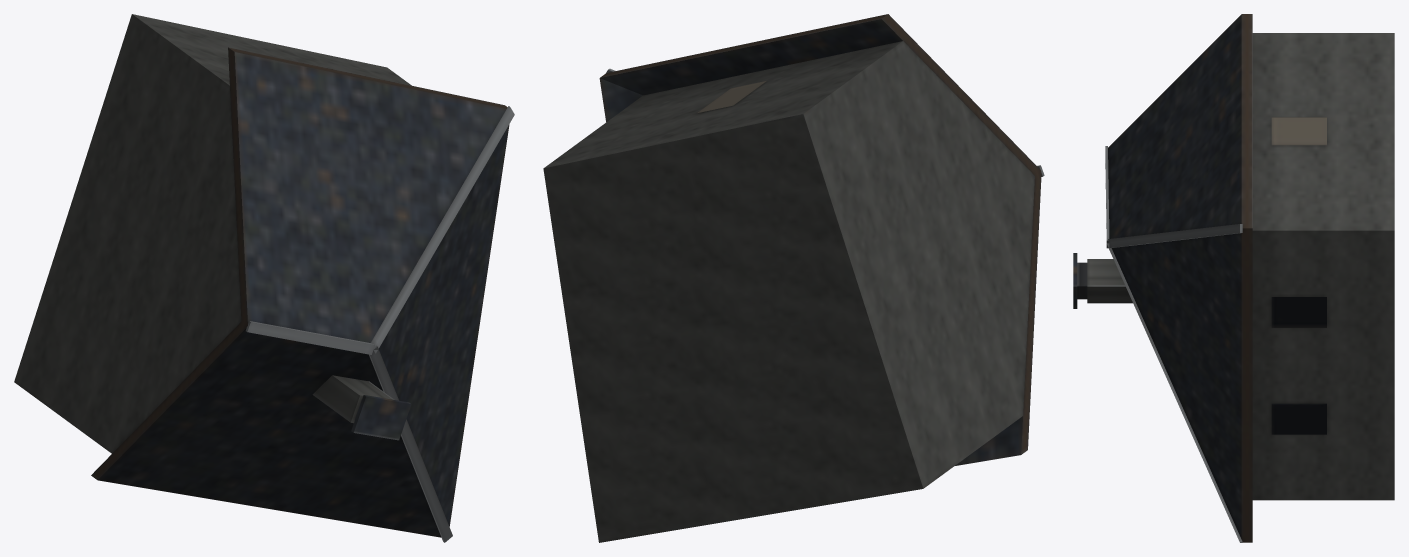
File: house_b0380.obj
3 views of the same model, side by side, from view 1: azimuth 30°, elevation 25°; view 2: azimuth 150°, elevation 25°; view 3: azimuth 270°, elevation 25° (orthographic). The views are drawn at different scales.
Visible parts, largest first — view 1: house_b0380; view 2: house_b0380; view 3: house_b0380.
Boxes of the visible parts, x1,y1,x2,y2 form: house_b0380: [14, 14, 514, 542]; house_b0380: [543, 14, 1044, 542]; house_b0380: [1073, 14, 1394, 542].
Size of the model in its own units: 8.69 by 10.8 by 7.07.
1 material, 1 textured.
